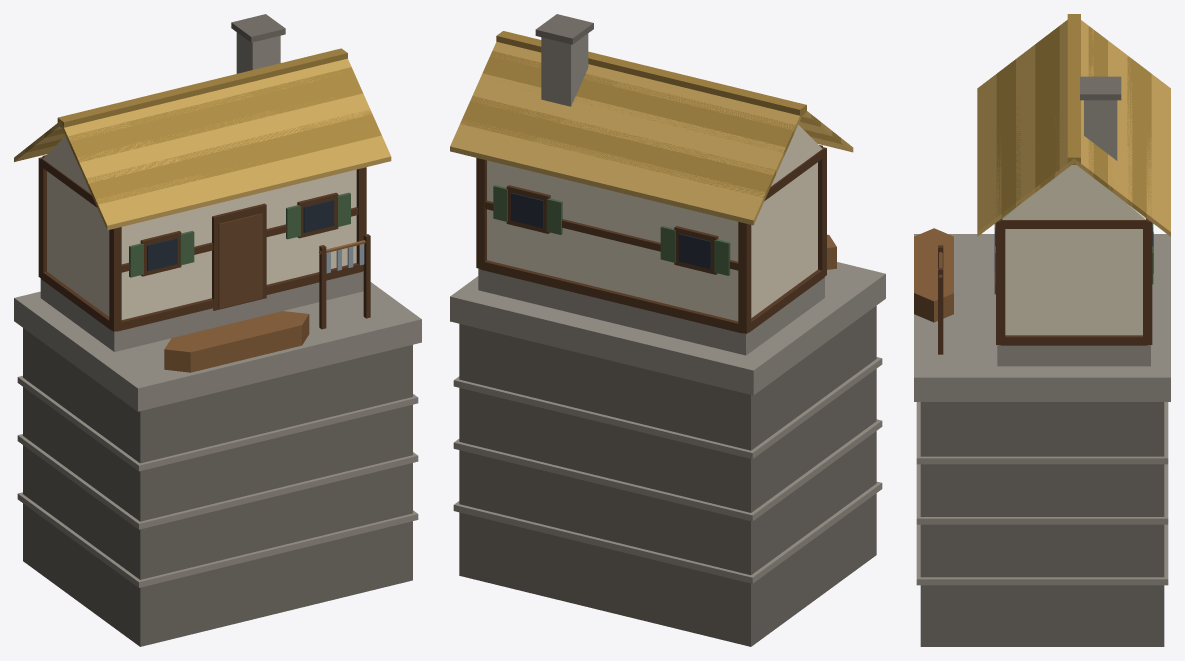
File: fisher.glb
3 views of the same model, side by side, from view 1: azimuth 30°, elevation 25°; view 2: azimuth 150°, elevation 25°; view 3: azimuth 270°, elevation 25° (orthographic). The views are drawn at different scales.
Visible parts, largest first — view 1: fisher; view 2: fisher; view 3: fisher.
Boxes of the visible parts, bbox=[...] form: fisher: bbox=[14, 14, 421, 646]; fisher: bbox=[450, 14, 885, 646]; fisher: bbox=[914, 14, 1170, 646].
Size of the model in its own units: 5.1 by 8.72 by 3.85.
